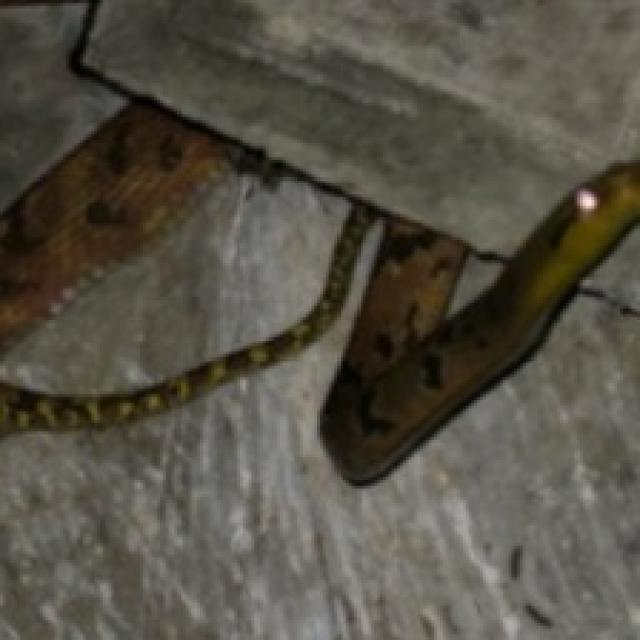dog-toothed cat snake: (320, 163, 637, 483), (0, 203, 377, 431), (0, 102, 229, 346)
